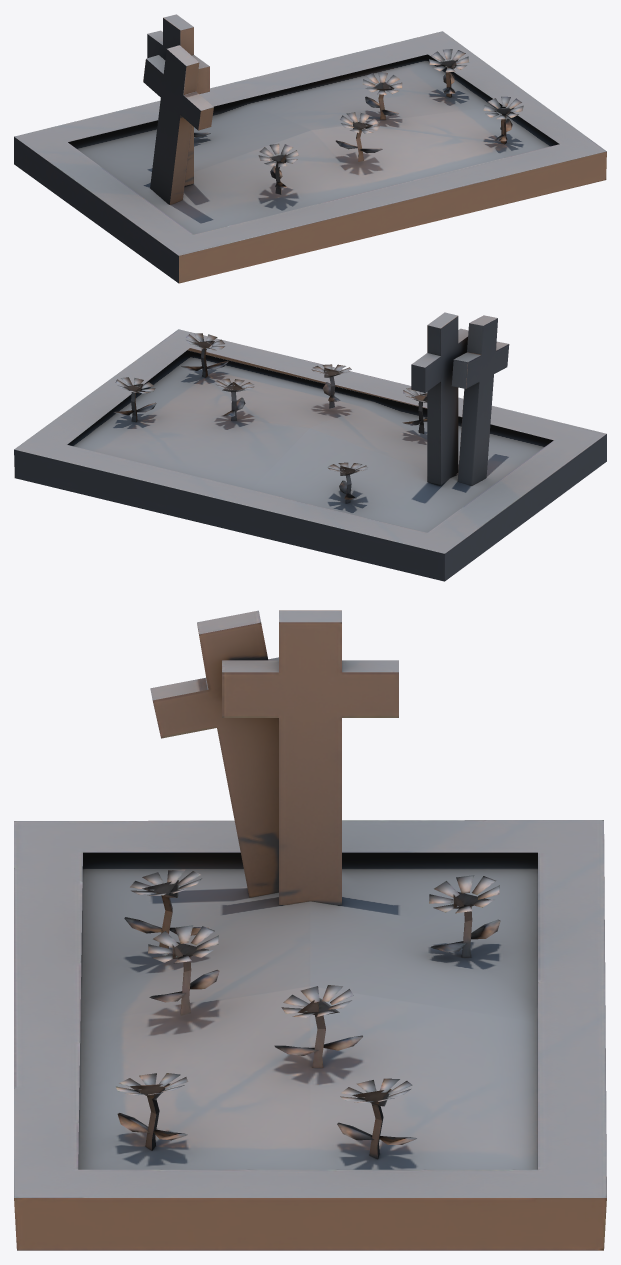
The picture shows the model from 3 angles, top to bottom: view 1: azimuth 30°, elevation 25°; view 2: azimuth 150°, elevation 25°; view 3: azimuth 270°, elevation 25°; orthographic projection. The views are drawn at different scales.
Parts seen in each view (by area): view 1: Tombe2 LOD High; view 2: Tombe2 LOD High; view 3: Tombe2 LOD High.
Part boxes in pixels (<box>): Tombe2 LOD High: <box>14,14,606,283</box>; Tombe2 LOD High: <box>14,312,606,581</box>; Tombe2 LOD High: <box>14,610,606,1250</box>.
Bounding box in the file's own units: 2.14 × 0.8689 × 1.42.
Materials: 1 (1 with a texture image).
